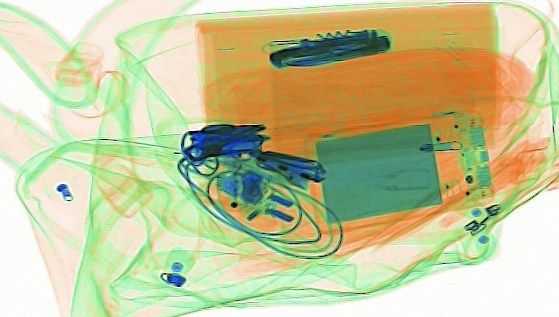knife: (266, 25, 393, 73)
